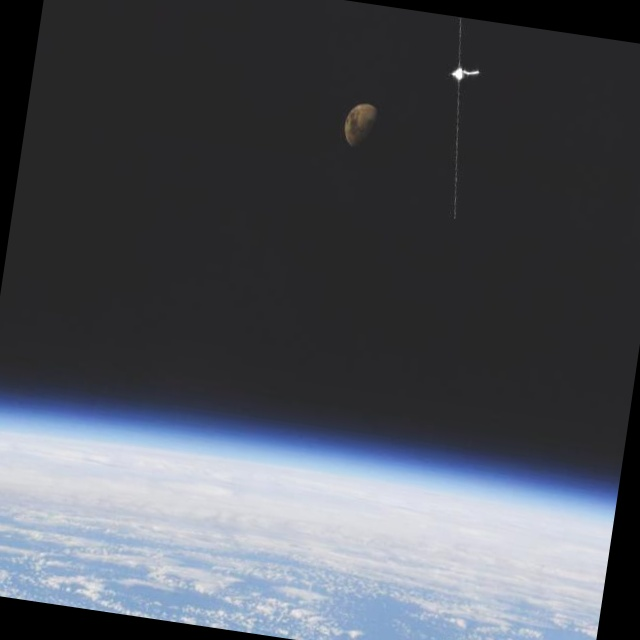satellite: (408, 14, 535, 223)
